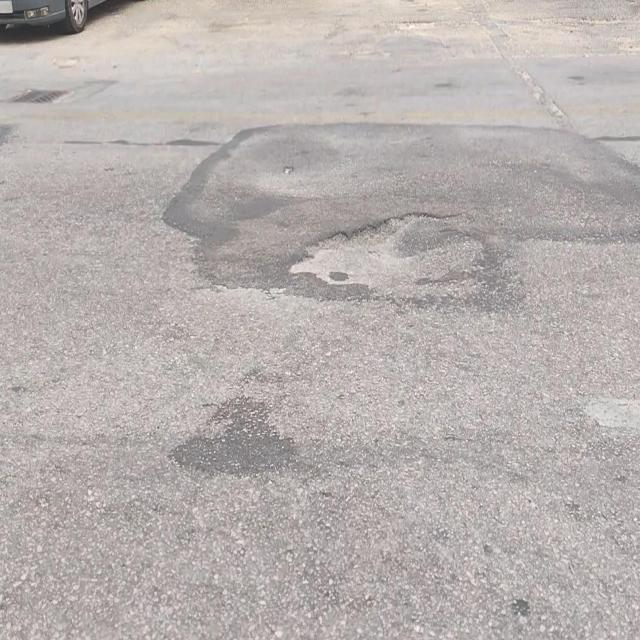Potholes: (286, 215, 479, 298)
